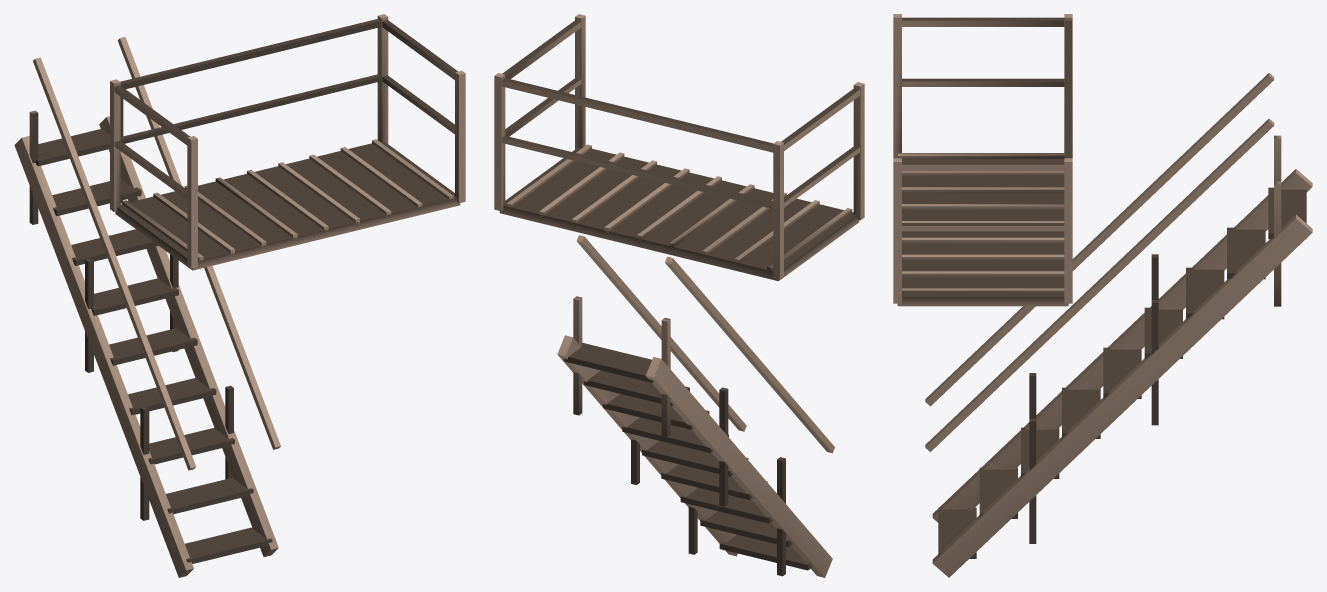
File: fire_escape.lod2.glb
3 views of the same model, side by side, from view 1: azimuth 30°, elevation 25°; view 2: azimuth 150°, elevation 25°; view 3: azimuth 270°, elevation 25° (orthographic). The views are drawn at different scales.
Parts seen in each view (by area): view 1: facade_fire_escape.lod2; view 2: facade_fire_escape.lod2; view 3: facade_fire_escape.lod2.
Boxes of the visible parts, left/top/right/bottom form: facade_fire_escape.lod2: left=14, top=14, right=465, bottom=577; facade_fire_escape.lod2: left=494, top=14, right=864, bottom=577; facade_fire_escape.lod2: left=893, top=14, right=1312, bottom=577.
Bounding box in the file's own units: 2.46 × 3.93 × 2.95.
